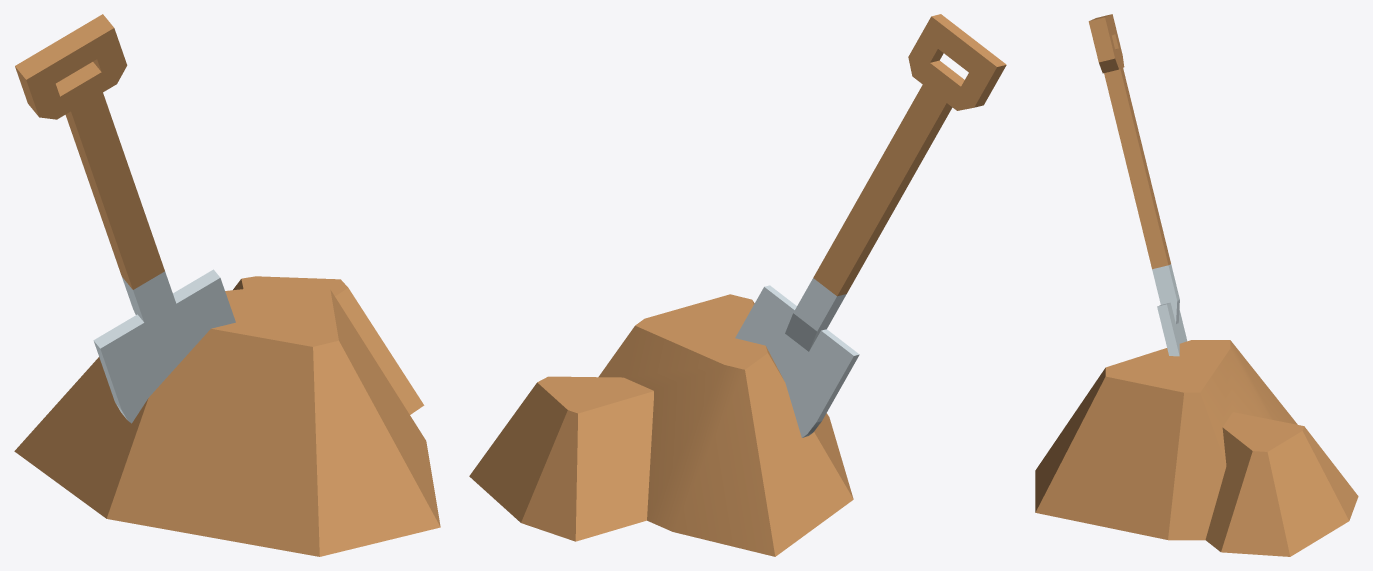
Rendered from shovelDirt.fbx.
The picture shows the model from 3 angles, left to right: view 1: azimuth 30°, elevation 25°; view 2: azimuth 150°, elevation 25°; view 3: azimuth 270°, elevation 25°; orthographic projection. The views are drawn at different scales.
Visible parts, largest first — view 1: shovelDirt; view 2: shovelDirt; view 3: shovelDirt.
Boxes of the visible parts, left/top/right/bottom form: shovelDirt: left=14, top=14, right=440, bottom=556; shovelDirt: left=469, top=14, right=1006, bottom=556; shovelDirt: left=1035, top=14, right=1358, bottom=556.
Size of the model in its own units: 6.46 by 6.8 by 5.06.
